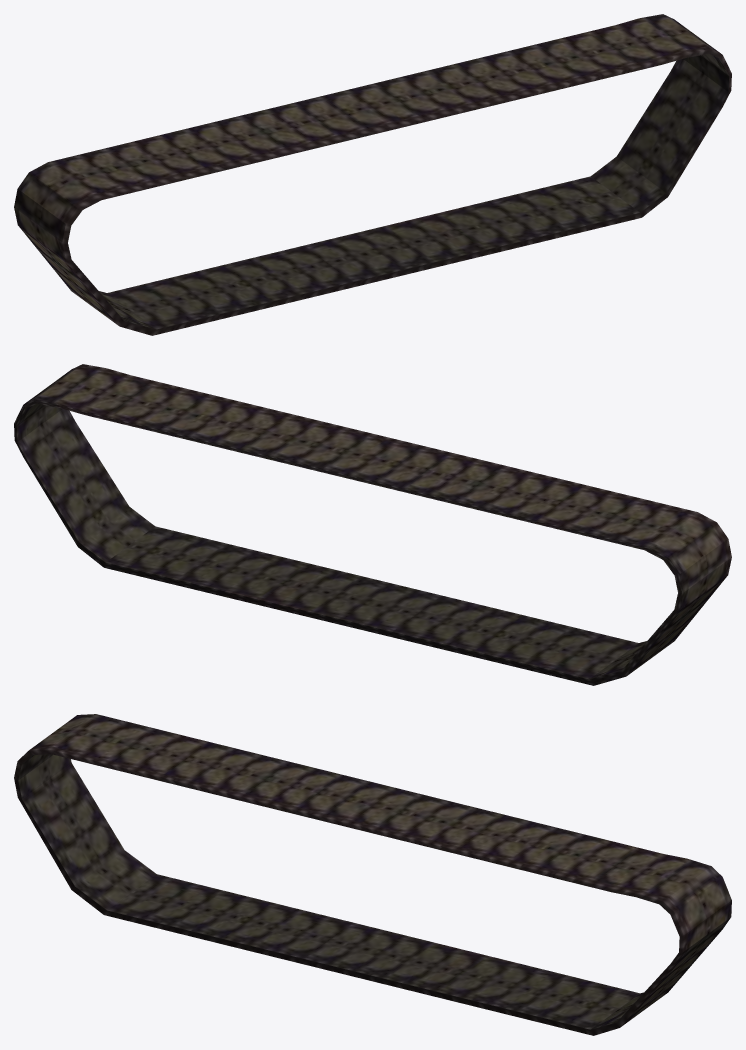
The model's file is prism_track.obj.
The picture shows the model from 3 angles, top to bottom: view 1: azimuth 30°, elevation 25°; view 2: azimuth 150°, elevation 25°; view 3: azimuth 330°, elevation 25°; orthographic projection.
Visible parts, largest first — view 1: track.001_Cylinder.003; view 2: track.001_Cylinder.003; view 3: track.001_Cylinder.003.
Part boxes in pixels (bbox=[...]): track.001_Cylinder.003: bbox=[14, 14, 731, 335]; track.001_Cylinder.003: bbox=[14, 364, 731, 685]; track.001_Cylinder.003: bbox=[14, 714, 731, 1035].
Bounding box in the file's own units: 8.32 × 1.82 × 1.07.
Materials: 1 (1 with a texture image).
